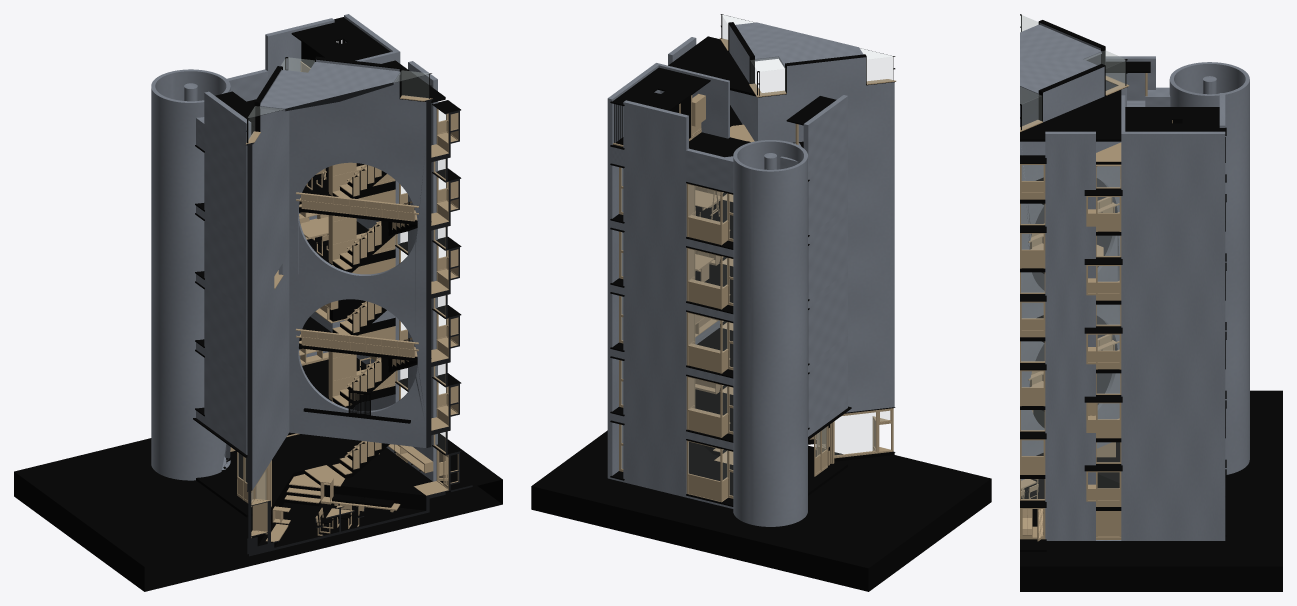
The model's file is sawara-building-section-b1.glb.
3 views of the same model, side by side, from view 1: azimuth 30°, elevation 25°; view 2: azimuth 150°, elevation 25°; view 3: azimuth 270°, elevation 25° (orthographic). The views are drawn at different scales.
Parts seen in each view (by area): view 1: web_03_RC_, web_10___, web_06__, web_05__, web_09____, web_08____, web_07_RC__, web_04____, web_02_____hide; view 2: web_03_RC_, web_10___, web_06__, web_04____, web_05__, web_08____, web_07_RC__, web_09____, web_02_____hide; view 3: web_03_RC_, web_10___, web_06__, web_04____, web_08____, web_07_RC__, web_05__, web_02_____hide, web_09____.
Boxes of the visible parts, x1,y1,x2,y2 form: web_03_RC_: [151, 14, 437, 491]; web_10___: [14, 41, 502, 591]; web_06__: [230, 61, 459, 543]; web_05__: [196, 40, 450, 556]; web_09____: [230, 63, 458, 542]; web_08____: [193, 17, 461, 539]; web_07_RC__: [260, 62, 400, 111]; web_04____: [238, 57, 446, 500]; web_02_____hide: [303, 60, 445, 423]; web_03_RC_: [607, 25, 894, 526]; web_10___: [531, 96, 991, 591]; web_06__: [619, 38, 896, 502]; web_04____: [621, 15, 892, 495]; web_05__: [614, 14, 895, 495]; web_08____: [610, 67, 895, 506]; web_07_RC__: [725, 22, 863, 159]; web_09____: [613, 96, 891, 498]; web_02_____hide: [668, 36, 755, 96]; web_03_RC_: [1020, 23, 1249, 540]; web_10___: [1020, 120, 1282, 591]; web_06__: [1020, 73, 1172, 539]; web_04____: [1020, 15, 1125, 498]; web_08____: [1020, 61, 1226, 536]; web_07_RC__: [1020, 24, 1102, 95]; web_05__: [1020, 14, 1182, 526]; web_02_____hide: [1020, 90, 1121, 141]; web_09____: [1021, 207, 1115, 541].
Bounding box in the file's own units: 15 × 18.08 × 9.45.
Materials: 6 (1 with a texture image).
